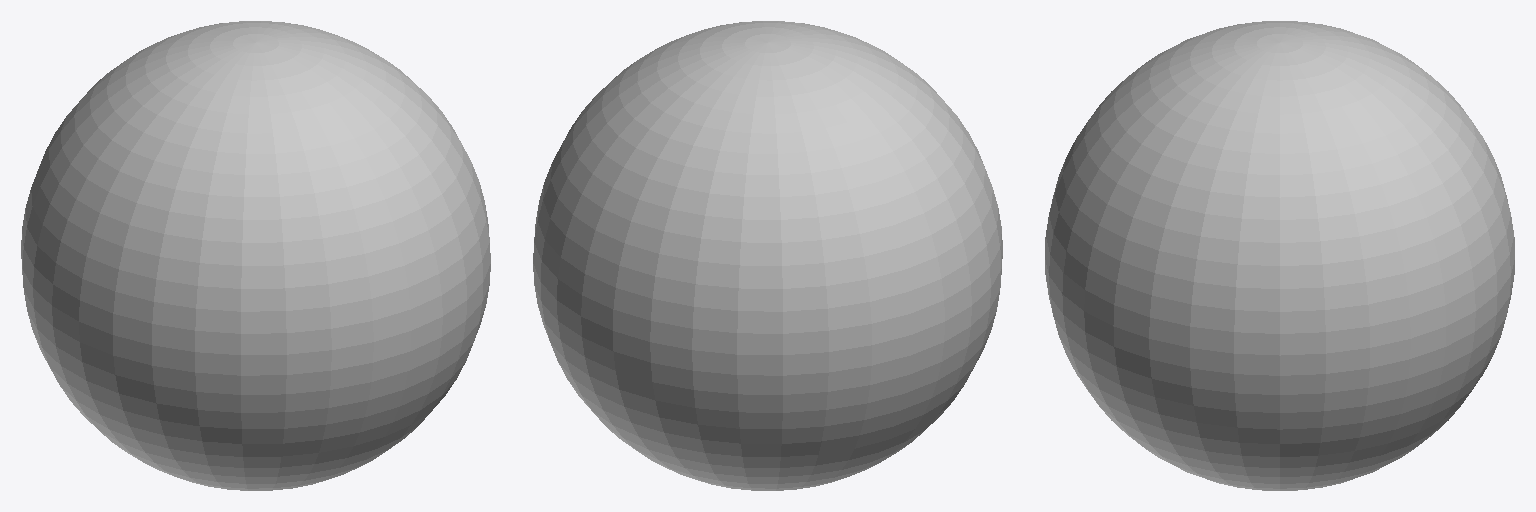
Rendered from raySphere.obj.
The picture shows the model from 3 angles: view 1: azimuth 30°, elevation 25°; view 2: azimuth 150°, elevation 25°; view 3: azimuth 270°, elevation 25°; orthographic projection.
Parts seen in each view (by area): view 1: pSphere1; view 2: pSphere1; view 3: pSphere1.
Boxes of the visible parts, x1,y1,x2,y2 form: pSphere1: [21, 21, 490, 490]; pSphere1: [533, 21, 1002, 490]; pSphere1: [1045, 21, 1514, 490].
Size of the model in its own units: 16 by 16 by 16.